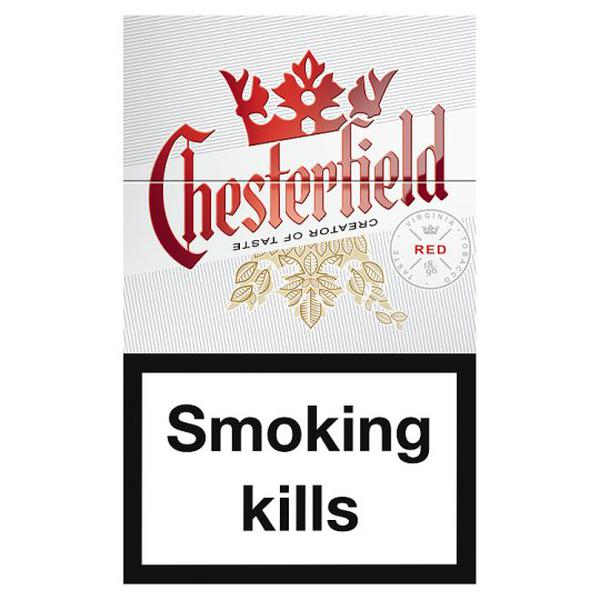chesterfield_red: (125, 16, 477, 582)
